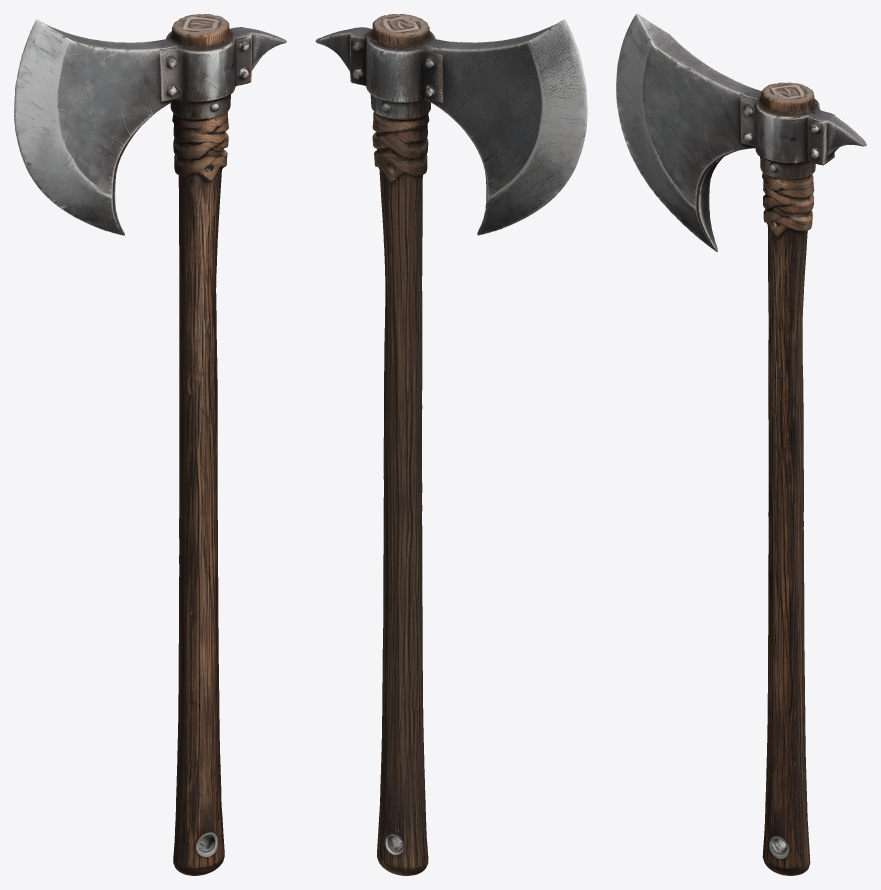
The model's file is Meshy_AI_Midnight_War_Axe_0618035637_texture.fbx.
3 renders of one model, left to right at view 1: azimuth 30°, elevation 25°; view 2: azimuth 150°, elevation 25°; view 3: azimuth 330°, elevation 25°, orthographic. The views are drawn at different scales.
Visible parts, largest first — view 1: Mesh_0; view 2: Mesh_0; view 3: Mesh_0.
Boxes of the visible parts, x1,y1,x2,y2 form: Mesh_0: (14,14,286,875); Mesh_0: (315,14,587,875); Mesh_0: (616,14,866,875).
Size of the model in its own units: 60.85 by 191 by 13.26.
1 material, 1 textured.
